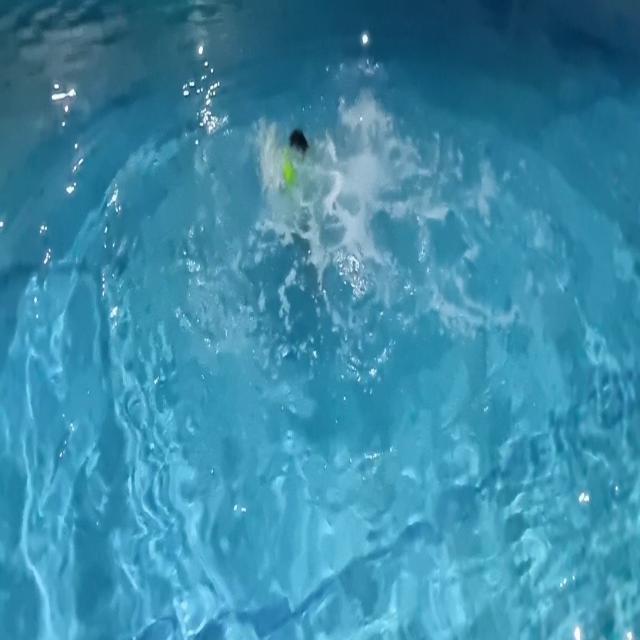Drowning: (243, 90, 405, 272)
